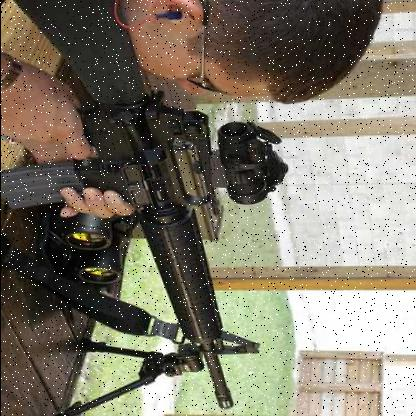rifle: (1, 34, 251, 415)
